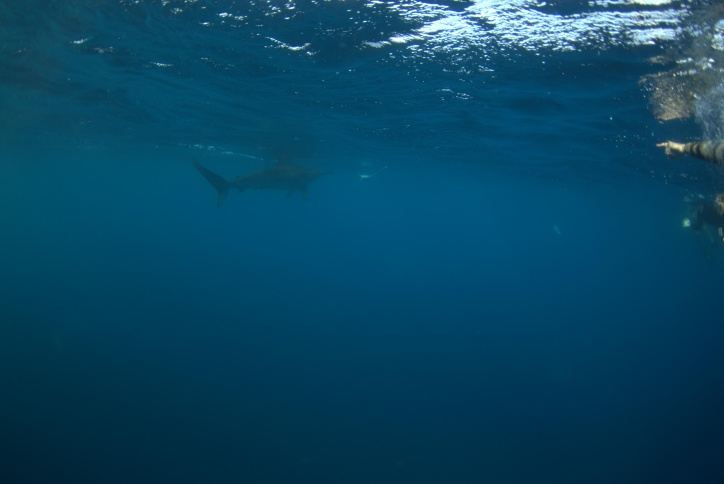Hammer: (182, 145, 364, 229)
